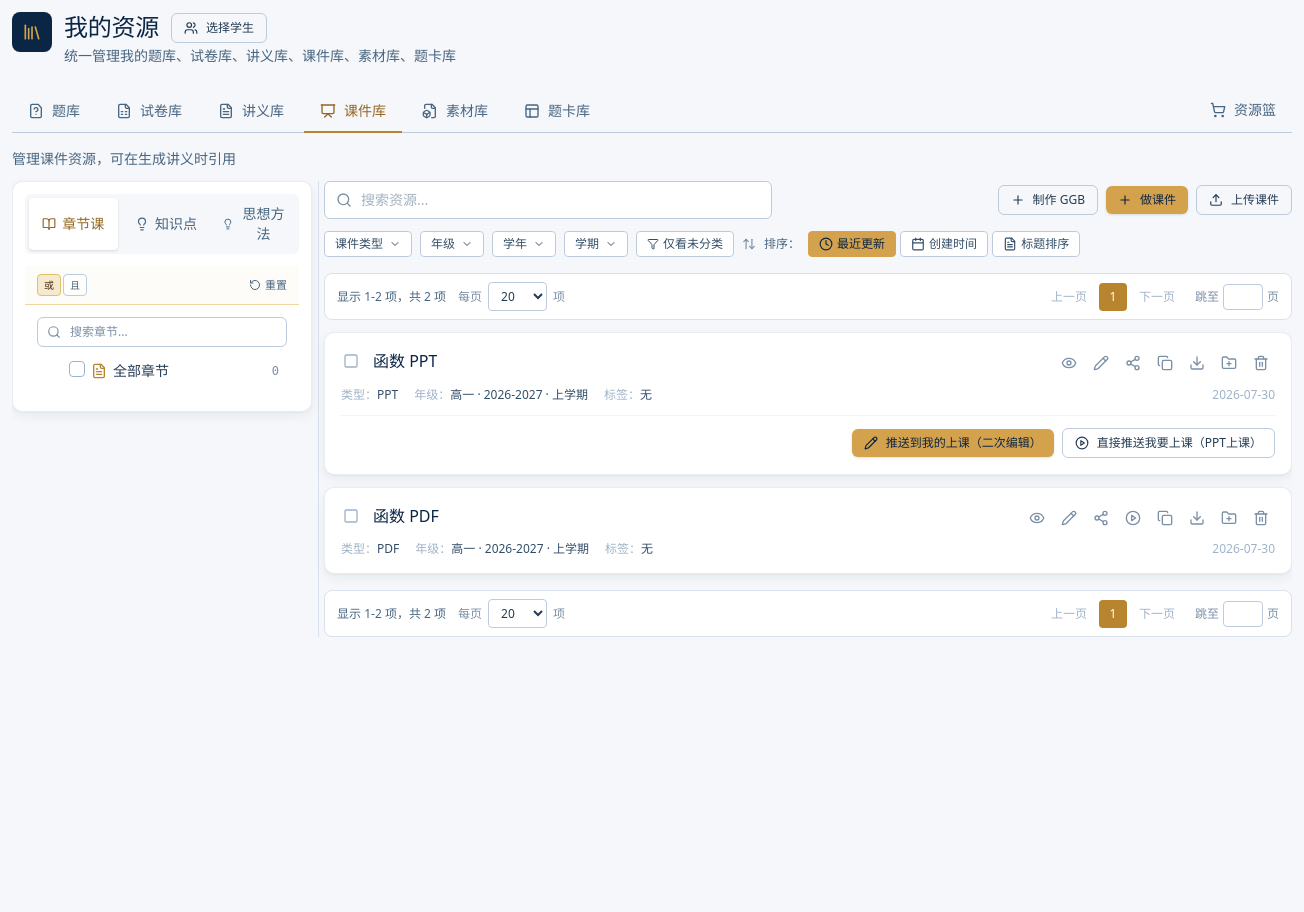
Test: MyResourcesPage batch actions › filters coursewares by the existing courseware types and places the type filter before grade
This screenshot has width=1304, height=912.
Expected: the text "函数 PPT" is shown, 373,349 -> 437,375
Expected: the text "函数 PDF" is shown, 373,504 -> 439,529
Click the button "课件类型".
click(368, 244)  # box 324,231 -> 412,257
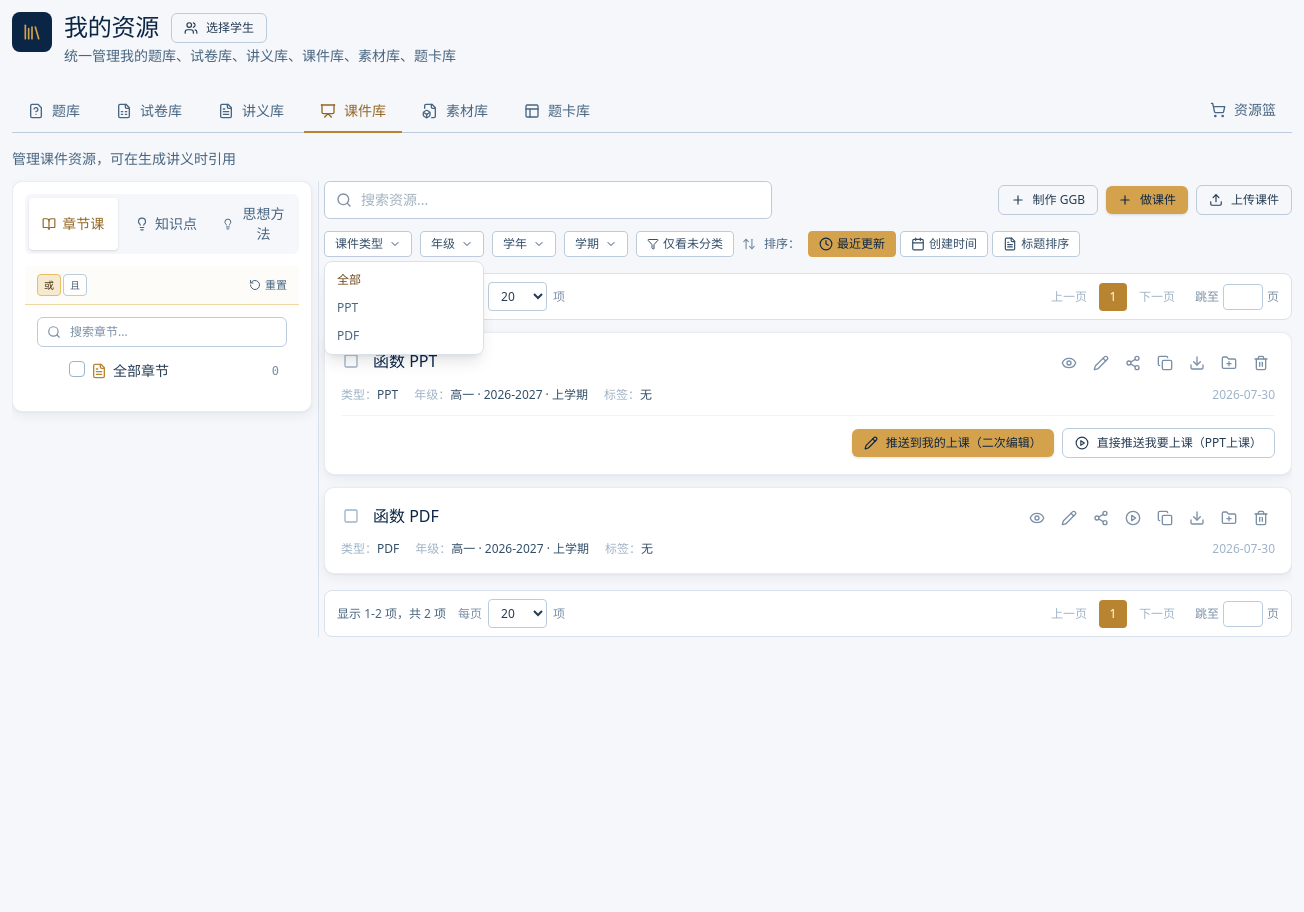
Now the button "PPT" is shown, box 325,294 -> 483,322
Now the button "PDF" is shown
Click the button "PDF".
click(404, 336)  # box 325,322 -> 483,350
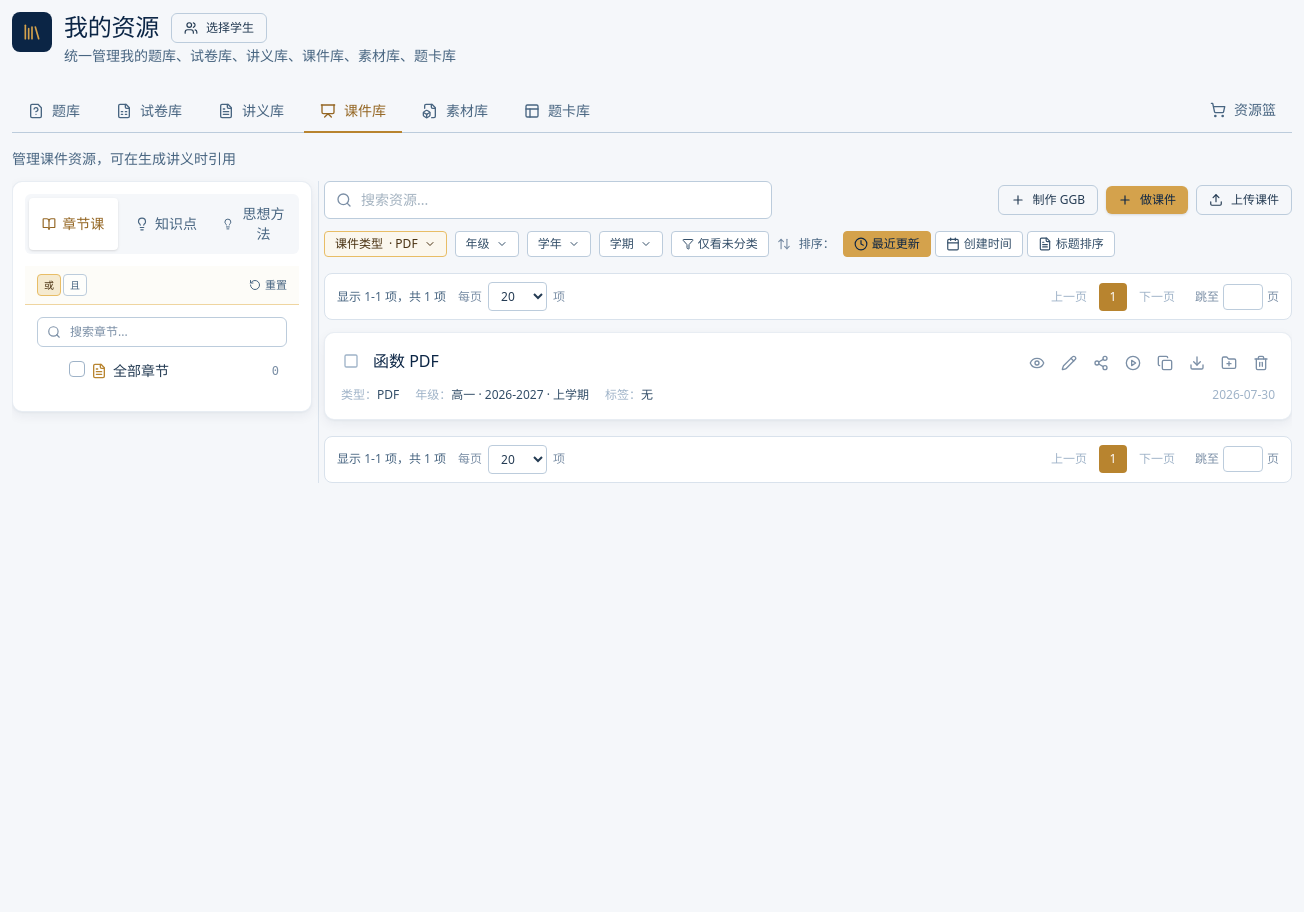
Expected: the text "函数 PDF" is shown, 373,349 -> 439,375
Now the text "函数 PPT" is gone
